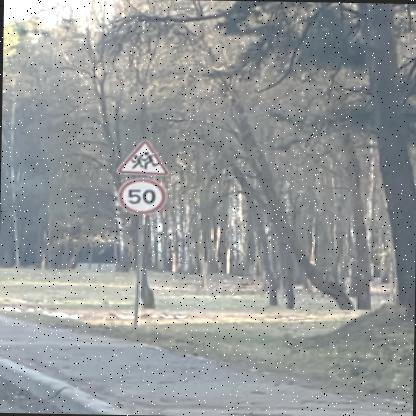speedlimit: (113, 177, 162, 213)
